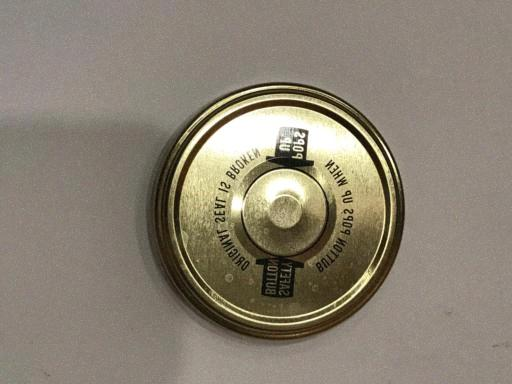metal: (154, 81, 406, 345)
